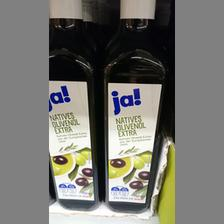Oel: (97, 0, 165, 212), (48, 0, 100, 210)
